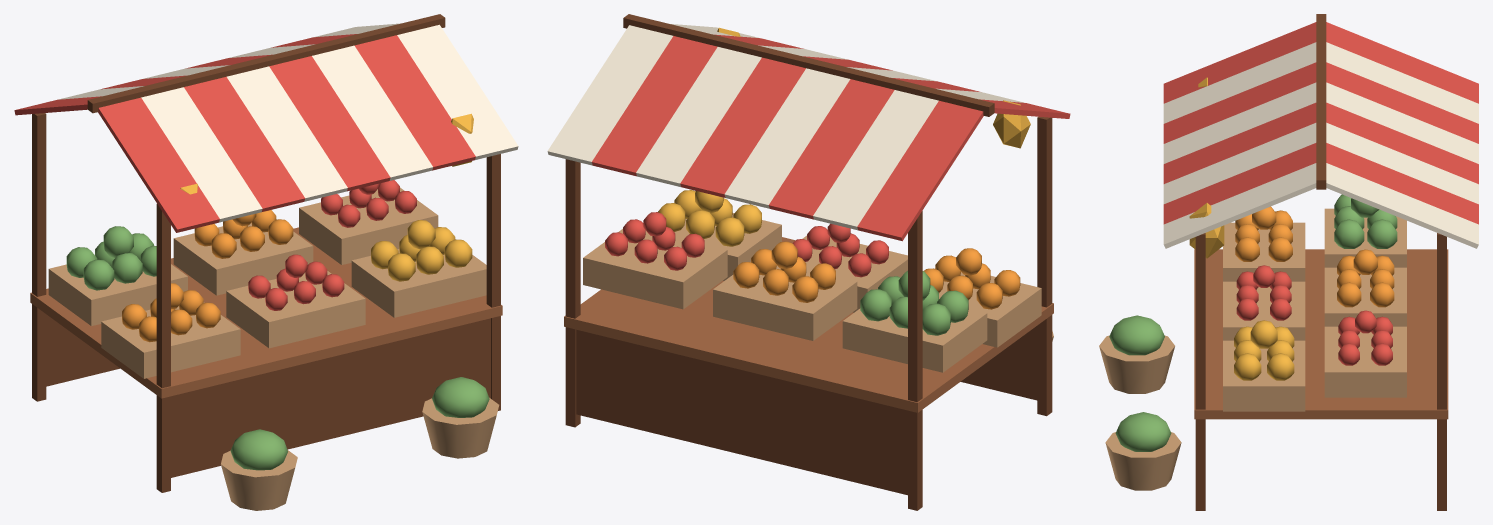
The model's file is fruit-stall-01.glb.
The picture shows the model from 3 angles, left to right: view 1: azimuth 30°, elevation 25°; view 2: azimuth 150°, elevation 25°; view 3: azimuth 270°, elevation 25°; orthographic projection. The views are drawn at different scales.
Visible parts, largest first — view 1: Canopy, Table, Crates, Fruit, Posts, Baskets; view 2: Canopy, Table, Crates, Fruit, Posts; view 3: Canopy, Fruit, Crates, Table, Baskets, Posts.
Part boxes in pixels (bbox=[...]): Canopy: bbox=[14, 14, 518, 232]; Table: bbox=[30, 227, 502, 477]; Crates: bbox=[48, 187, 486, 378]; Fruit: bbox=[66, 113, 489, 470]; Posts: bbox=[32, 113, 500, 492]; Baskets: bbox=[221, 397, 499, 510]; Canopy: bbox=[547, 14, 1070, 241]; Table: bbox=[564, 237, 1053, 495]; Crates: bbox=[583, 213, 1041, 372]; Fruit: bbox=[605, 27, 1030, 335]; Posts: bbox=[565, 116, 1052, 510]; Canopy: bbox=[1163, 14, 1478, 248]; Fruit: bbox=[1109, 77, 1397, 451]; Crates: bbox=[1223, 208, 1406, 411]; Table: bbox=[1194, 249, 1448, 419]; Baskets: bbox=[1099, 335, 1181, 490]; Posts: bbox=[1195, 233, 1446, 510].
Size of the model in its own units: 3.1 by 2.9 by 2.99.
